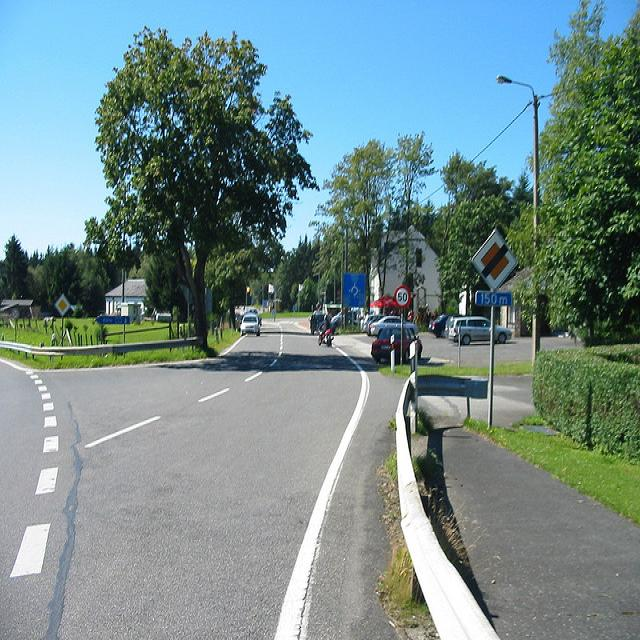motor: (317, 328, 334, 347)
